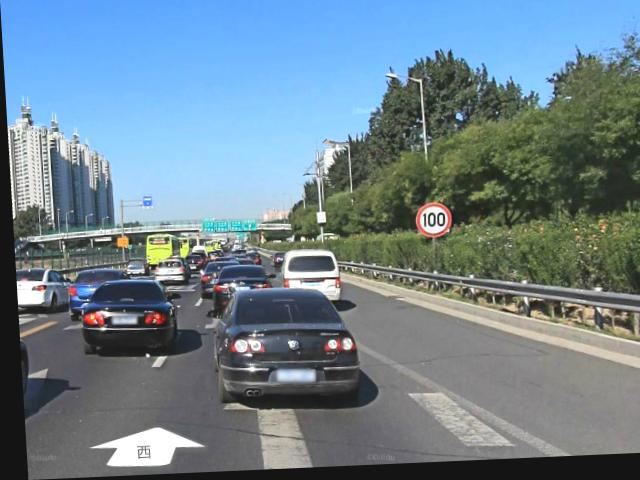limit100: (413, 203, 449, 243)
